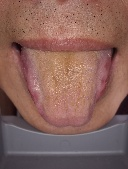tongue: (18, 53, 109, 129)
